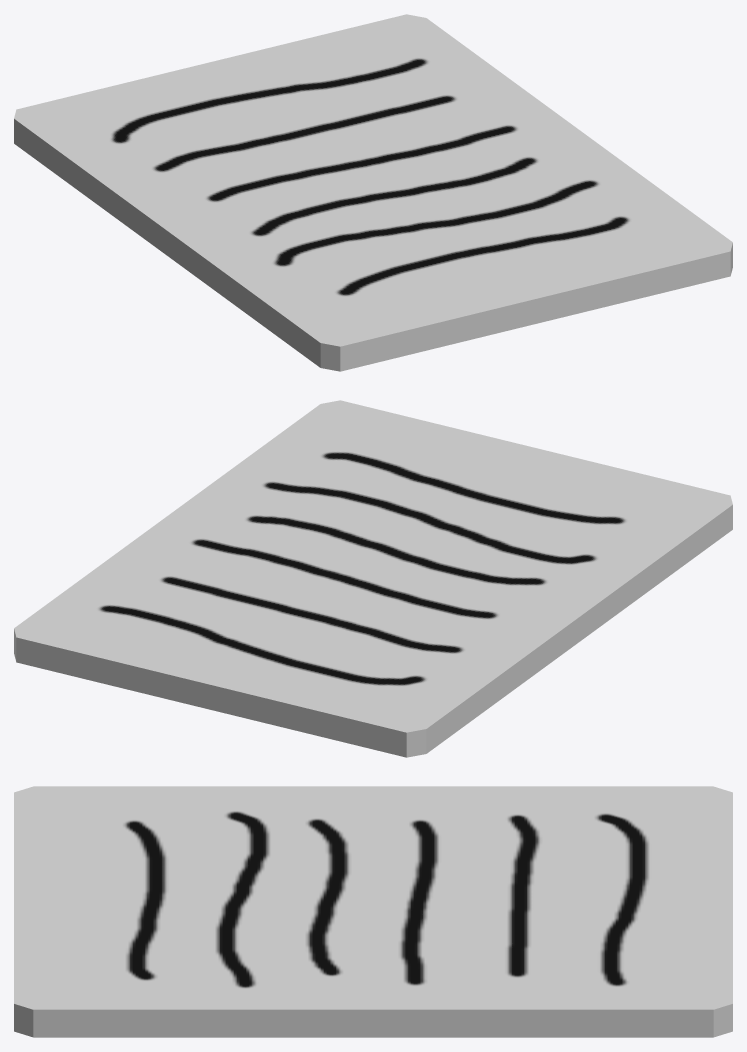
The model's file is Paper.fbx.
The picture shows the model from 3 angles, top to bottom: view 1: azimuth 30°, elevation 25°; view 2: azimuth 150°, elevation 25°; view 3: azimuth 270°, elevation 25°; orthographic projection. The views are drawn at different scales.
Parts seen in each view (by area): view 1: Paper; view 2: Paper; view 3: Paper.
Part boxes in pixels (left/top/right/bottom): Paper: left=14, top=14, right=732, bottom=371; Paper: left=14, top=400, right=732, bottom=757; Paper: left=14, top=786, right=732, bottom=1037.
Bounding box in the file's own units: 69.59 × 4.03 × 94.68.
